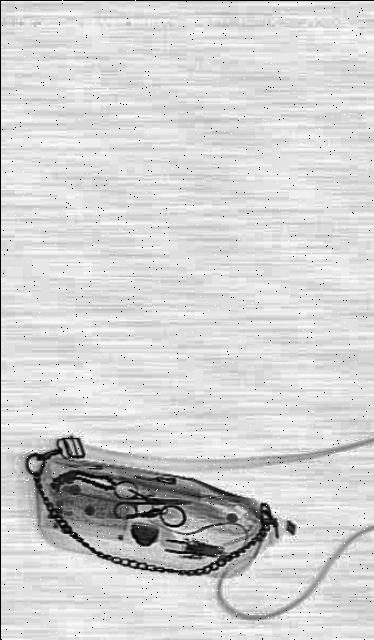Scissors: (113, 478, 191, 520)
